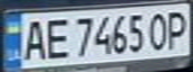4: (90, 12, 115, 56)
5: (127, 11, 148, 53)
6: (109, 11, 133, 55)
7: (69, 14, 93, 58)
A: (18, 16, 48, 62)
E: (42, 15, 72, 61)
O: (145, 9, 172, 52)
P: (163, 7, 190, 51)
